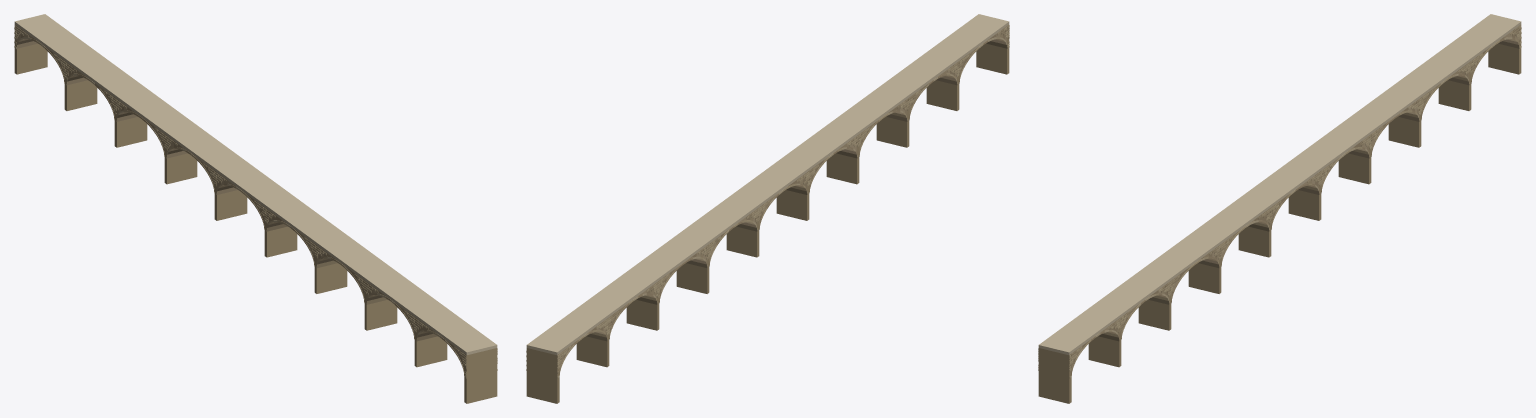
Rendered from bridge-stone-128.glb.
3 renders of one model, left to right at view 1: azimuth 30°, elevation 25°; view 2: azimuth 150°, elevation 25°; view 3: azimuth 330°, elevation 25°, orthographic.
Parts seen in each view (by area): view 1: Deck | pale paving, Pier 10 | bank foundation, Pier 05 | bank foundation, Pier 08 | bank foundation, Pier 07 | bank foundation, Pier 04 | bank foundation, Pier 09 | bank foundation, Pier 03 | bank foundation, Pier 06 | bank foundation, Pier 02 | bank foundation, Pier 01 | bank foundation; view 2: Deck | pale paving, Pier 01 | bank foundation, Pier 07 | bank foundation, Pier 06 | bank foundation, Pier 09 | bank foundation, Pier 08 | bank foundation, Pier 04 | bank foundation, Pier 03 | bank foundation, Pier 05 | bank foundation, Pier 10 | bank foundation, Pier 02 | bank foundation; view 3: Deck | pale paving, Pier 10 | bank foundation, Pier 02 | bank foundation, Pier 05 | bank foundation, Pier 04 | bank foundation, Pier 08 | bank foundation, Pier 07 | bank foundation, Pier 09 | bank foundation, Pier 06 | bank foundation, Pier 03 | bank foundation, Pier 01 | bank foundation.
Boxes of the visible parts, x1,y1,x2,y2 form: Deck | pale paving: (14,14,497,354); Pier 10 | bank foundation: (464,348,497,403); Pier 05 | bank foundation: (214,171,247,220); Pier 08 | bank foundation: (364,281,397,330); Pier 07 | bank foundation: (314,244,347,293); Pier 04 | bank foundation: (164,134,197,184); Pier 09 | bank foundation: (414,317,447,367); Pier 03 | bank foundation: (114,98,147,147); Pier 06 | bank foundation: (264,208,297,257); Pier 02 | bank foundation: (64,61,97,110); Pier 01 | bank foundation: (14,25,47,74); Deck | pale paving: (526,14,1009,354); Pier 01 | bank foundation: (526,348,559,403); Pier 07 | bank foundation: (826,134,859,184); Pier 06 | bank foundation: (776,171,809,220); Pier 09 | bank foundation: (926,61,959,110); Pier 08 | bank foundation: (876,98,909,147); Pier 04 | bank foundation: (676,244,709,293); Pier 03 | bank foundation: (626,281,659,330); Pier 05 | bank foundation: (726,208,759,257); Pier 10 | bank foundation: (976,25,1009,74); Pier 02 | bank foundation: (576,317,609,367); Deck | pale paving: (1038,14,1521,354); Pier 10 | bank foundation: (1038,348,1071,403); Pier 02 | bank foundation: (1438,61,1471,110); Pier 05 | bank foundation: (1288,171,1321,220); Pier 04 | bank foundation: (1338,134,1371,184); Pier 08 | bank foundation: (1138,281,1171,330); Pier 07 | bank foundation: (1188,244,1221,293); Pier 09 | bank foundation: (1088,317,1121,367); Pier 06 | bank foundation: (1238,208,1271,257); Pier 03 | bank foundation: (1388,98,1421,147); Pier 01 | bank foundation: (1488,25,1521,74).
Bounding box in the file's own units: 5.1 × 8.05 × 128.
